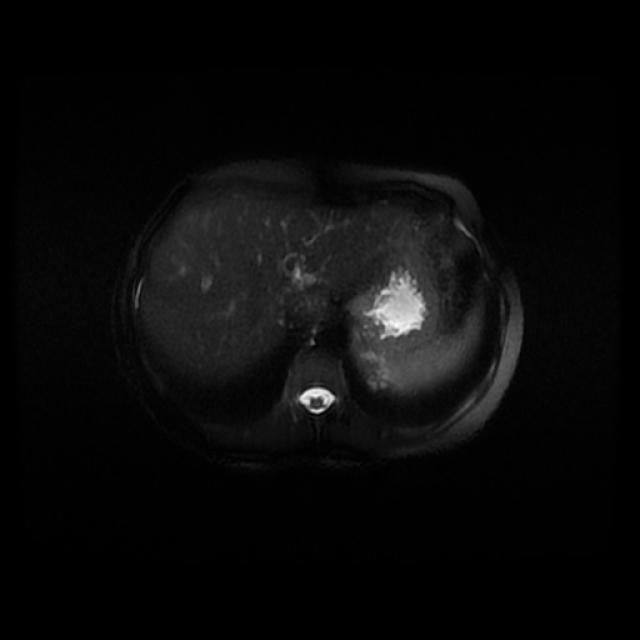sol: (362, 347, 395, 394)
